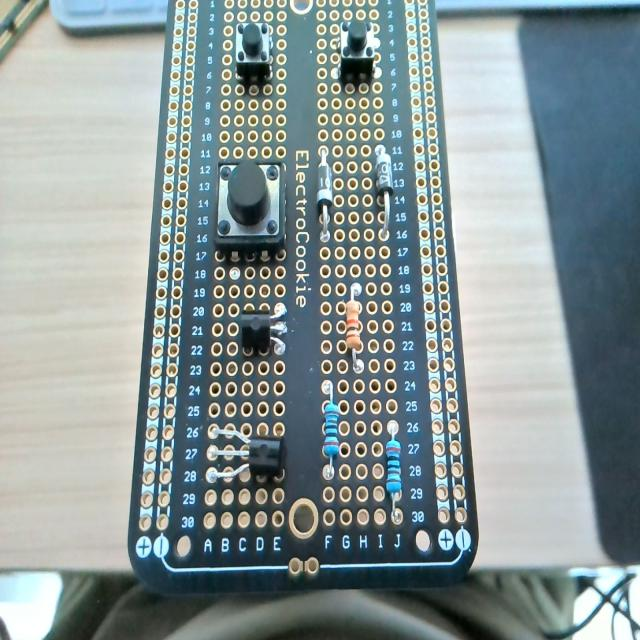diode: (373, 143, 395, 243), (316, 145, 333, 244)
resistor: (342, 286, 366, 374), (320, 381, 339, 479), (385, 424, 403, 523)
switch: (215, 160, 287, 251), (235, 21, 272, 84), (338, 19, 376, 80)
transistor: (205, 424, 286, 494), (236, 299, 293, 361)
